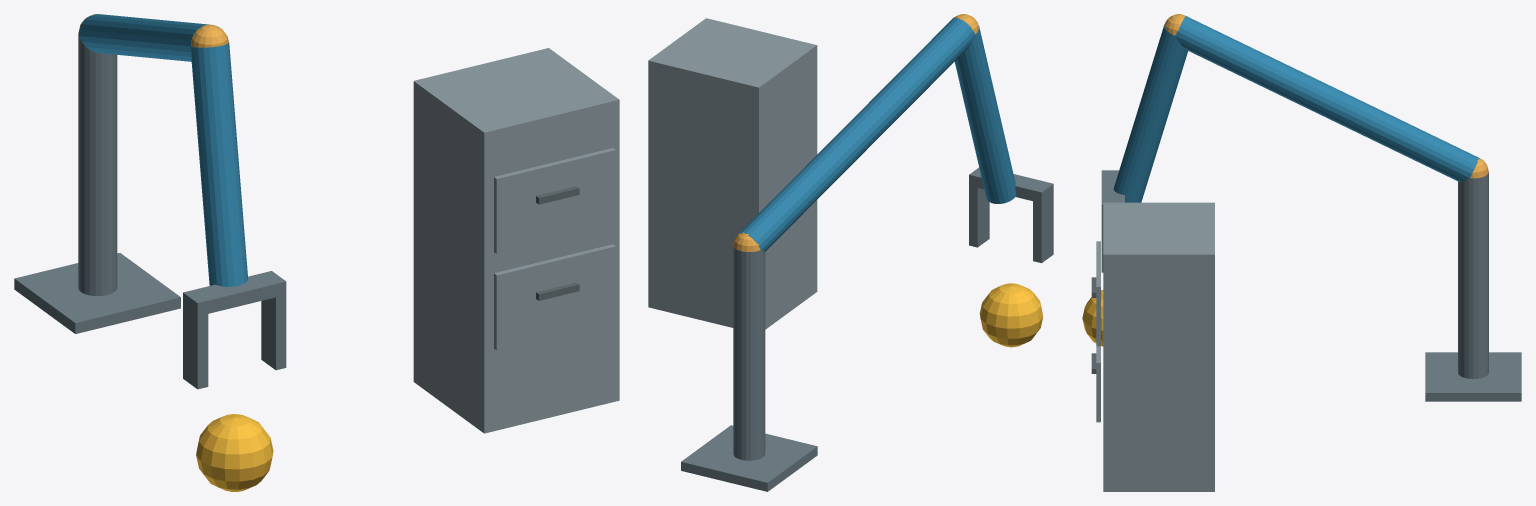
The picture shows the model from 3 angles, left to right: view 1: azimuth 30°, elevation 25°; view 2: azimuth 150°, elevation 25°; view 3: azimuth 270°, elevation 25°; orthographic projection. The views are drawn at different scales.
Visible parts, largest first — view 1: cabinet_1 body, fixed post, moving link 2, cabinet_1 drawer front.001, cabinet_1 drawer front, pedestal, ball ball_1, moving link 1, gripper bridge, gripper finger -1, gripper finger 1, joint 2; view 2: cabinet_1 body, moving link 1, fixed post, moving link 2, pedestal, ball ball_1, gripper finger -1, gripper finger 1, gripper bridge; view 3: cabinet_1 body, moving link 1, fixed post, moving link 2, pedestal, ball ball_1, gripper bridge, cabinet_1 drawer front.001.
Part boxes in pixels (box(x1,y1,x2,y2)): cabinet_1 body: box(413, 48, 619, 433); fixed post: box(78, 32, 117, 295); moving link 2: box(191, 42, 247, 286); cabinet_1 drawer front.001: box(494, 148, 615, 254); cabinet_1 drawer front: box(494, 244, 615, 350); pedestal: box(14, 253, 180, 333); ball ball_1: box(196, 414, 273, 491); moving link 1: box(79, 14, 219, 61); gripper bridge: box(183, 271, 286, 316); gripper finger -1: box(183, 306, 208, 389); gripper finger 1: box(261, 295, 286, 370); joint 2: box(191, 24, 228, 48); cabinet_1 body: box(648, 18, 817, 329); moving link 1: box(739, 17, 975, 251); fixed post: box(733, 246, 765, 460); moving link 2: box(954, 25, 1016, 203); pedestal: box(681, 425, 817, 491); ball ball_1: box(979, 283, 1042, 347); gripper finger -1: box(1033, 195, 1053, 263); gripper finger 1: box(969, 185, 989, 247); gripper bridge: box(969, 167, 1053, 203); cabinet_1 body: box(1103, 202, 1214, 491); moving link 1: box(1175, 15, 1479, 181); fixed post: box(1458, 172, 1488, 379); moving link 2: box(1113, 24, 1187, 202); pedestal: box(1425, 352, 1521, 401); ball ball_1: box(1082, 290, 1103, 346); gripper bridge: box(1101, 170, 1124, 214); cabinet_1 drawer front.001: box(1096, 241, 1100, 346).
Bounding box in the file's own units: 1 × 0.9661 × 1.14.
